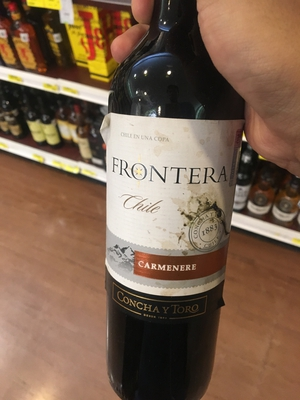frontera carmenere: (100, 8, 252, 390)
